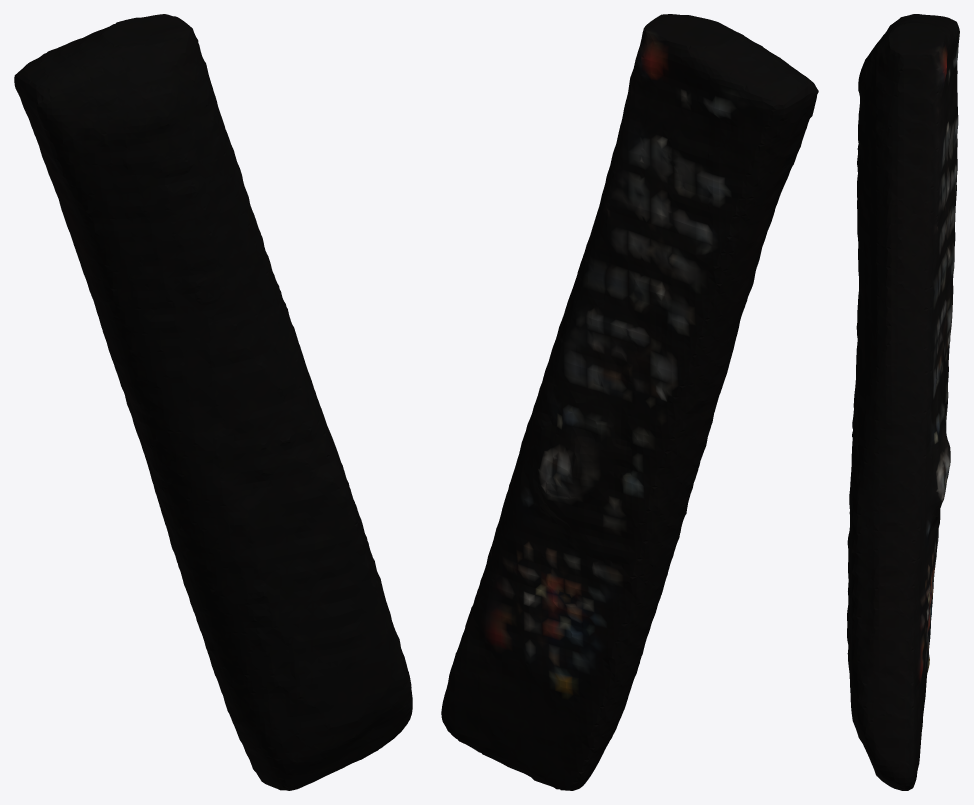
File: mesh_remote-black.obj
The picture shows the model from 3 angles, left to right: view 1: azimuth 30°, elevation 25°; view 2: azimuth 150°, elevation 25°; view 3: azimuth 270°, elevation 25°; orthographic projection. The views are drawn at different scales.
Size of the model in its own units: 0.9735 by 1.97 by 0.3004.
